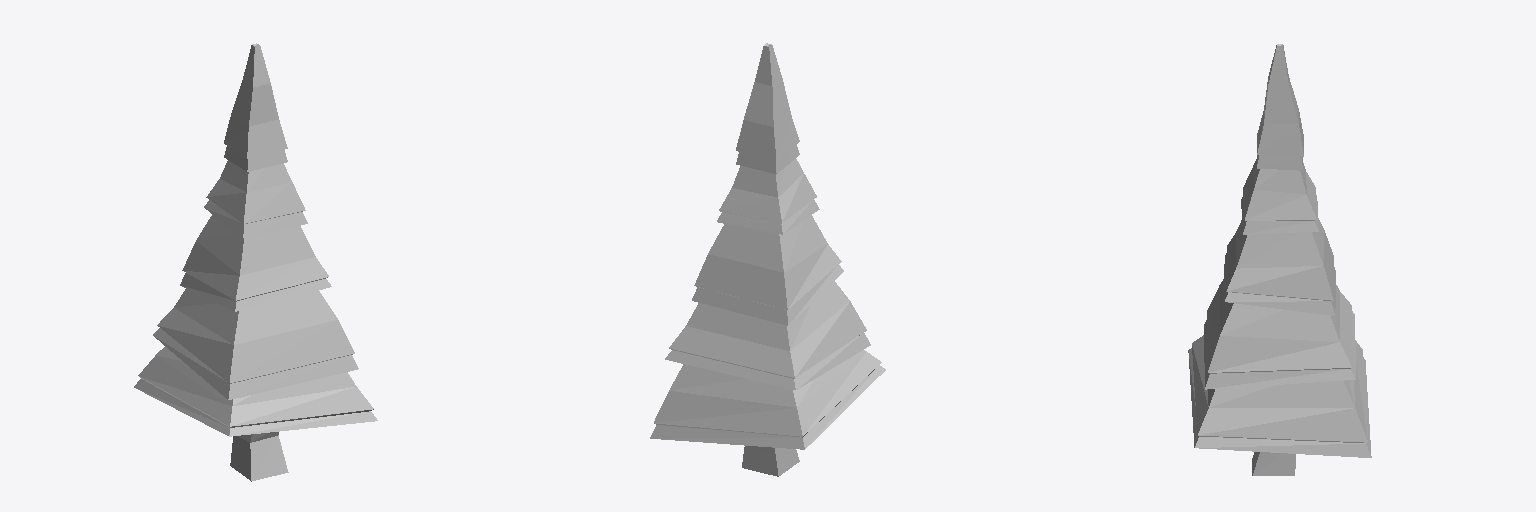
File: Snowy Tree 1.obj
3 views of the same model, side by side, from view 1: azimuth 30°, elevation 25°; view 2: azimuth 150°, elevation 25°; view 3: azimuth 270°, elevation 25° (orthographic).
Visible parts, largest first — view 1: Tree_1_Cube.029; view 2: Tree_1_Cube.029; view 3: Tree_1_Cube.029.
Part boxes in pixels (left/top/right/bottom): Tree_1_Cube.029: left=134, top=43, right=377, bottom=481; Tree_1_Cube.029: left=650, top=43, right=885, bottom=476; Tree_1_Cube.029: left=1188, top=44, right=1371, bottom=475.
Size of the model in its own units: 2.77 by 6.99 by 2.75.